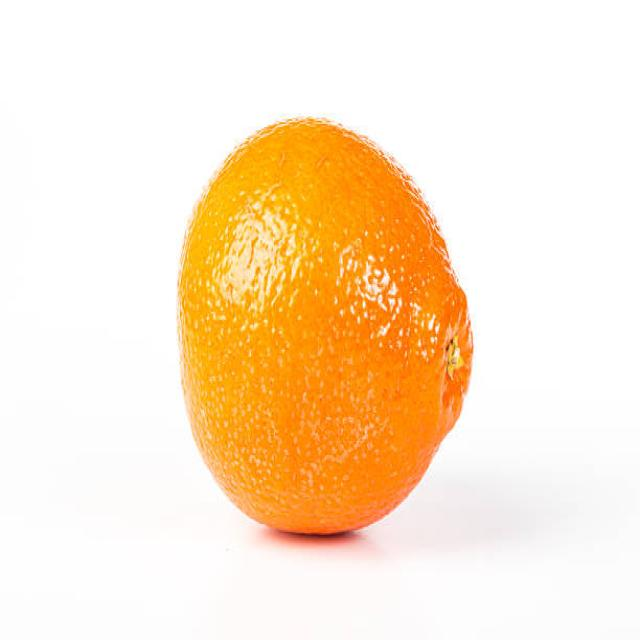Ripe: (171, 113, 476, 537)
